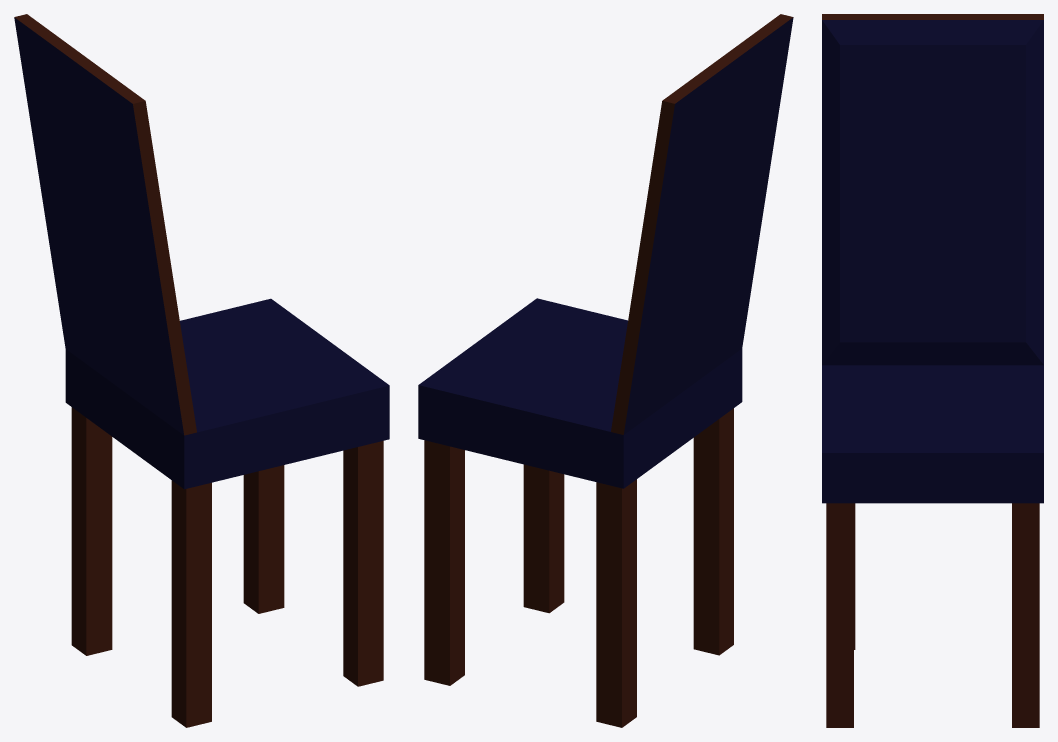
Rendered from clubChair01.fbx.
3 views of the same model, side by side, from view 1: azimuth 30°, elevation 25°; view 2: azimuth 150°, elevation 25°; view 3: azimuth 270°, elevation 25° (orthographic). The views are drawn at different scales.
Visible parts, largest first — view 1: clubChair01; view 2: clubChair01; view 3: clubChair01.
Part boxes in pixels (<box>): clubChair01: <box>14,14,389,727</box>; clubChair01: <box>418,14,793,727</box>; clubChair01: <box>822,14,1043,727</box>.
Size of the model in its own units: 0.4 by 0.952 by 0.32.
